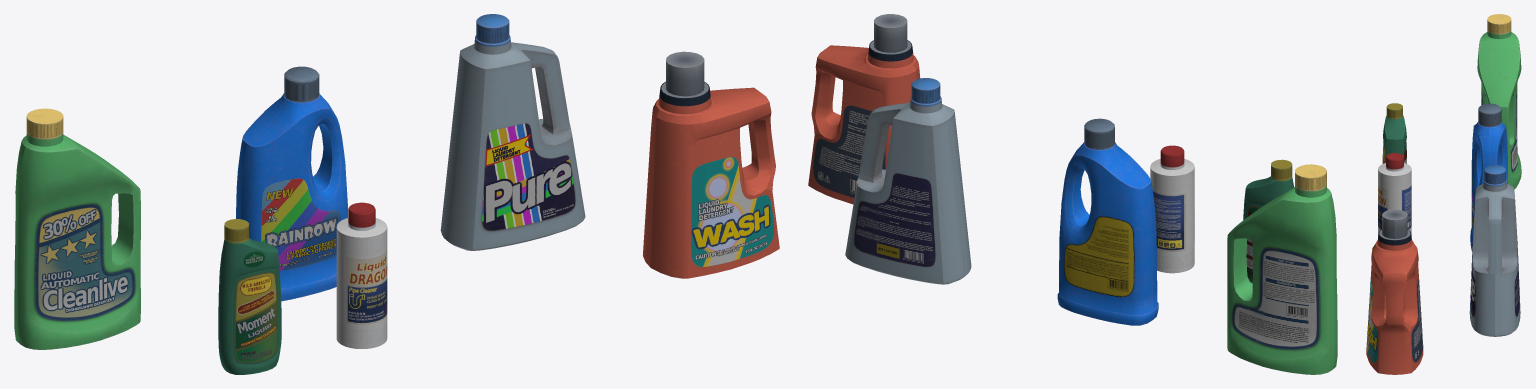
File: laundry_items.glb
3 renders of one model, left to right at view 1: azimuth 30°, elevation 25°; view 2: azimuth 150°, elevation 25°; view 3: azimuth 270°, elevation 25°, orthographic. The views are drawn at different scales.
Parts seen in each view (by area): view 1: LP_Liquid_Detergent_04, LP_Liquid_Detergent_05, LP_Liquid_Detergent_01, LP_Liquid_Detergent_03, LP_Liquid_Detergent_02, LP_Pipe_Cleaner_01; view 2: LP_Liquid_Detergent_04, LP_Liquid_Detergent_05, LP_Liquid_Detergent_03, LP_Liquid_Detergent_01, LP_Pipe_Cleaner_01, LP_Liquid_Detergent_02; view 3: LP_Liquid_Detergent_01, LP_Liquid_Detergent_04, LP_Liquid_Detergent_05, LP_Liquid_Detergent_03, LP_Pipe_Cleaner_01, LP_Liquid_Detergent_02.
Boxes of the visible parts, x1,y1,x2,y2 form: LP_Liquid_Detergent_04: (440, 14, 585, 250); LP_Liquid_Detergent_05: (14, 108, 140, 349); LP_Liquid_Detergent_01: (643, 51, 779, 278); LP_Liquid_Detergent_03: (236, 66, 347, 301); LP_Liquid_Detergent_02: (218, 219, 281, 374); LP_Pipe_Cleaner_01: (336, 202, 387, 348); LP_Liquid_Detergent_04: (845, 78, 971, 284); LP_Liquid_Detergent_05: (1227, 164, 1337, 374); LP_Liquid_Detergent_03: (1057, 118, 1158, 325); LP_Liquid_Detergent_01: (808, 14, 920, 204); LP_Pipe_Cleaner_01: (1150, 145, 1194, 273); LP_Liquid_Detergent_02: (1243, 159, 1293, 283); LP_Liquid_Detergent_01: (1366, 209, 1423, 374); LP_Liquid_Detergent_04: (1469, 165, 1520, 336); LP_Liquid_Detergent_05: (1477, 14, 1521, 189); LP_Liquid_Detergent_03: (1470, 103, 1508, 251); LP_Pipe_Cleaner_01: (1378, 153, 1411, 236); LP_Liquid_Detergent_02: (1382, 103, 1406, 163).
Size of the model in its own units: 1.09 by 0.3412 by 0.327.
6 materials, 6 textured.
